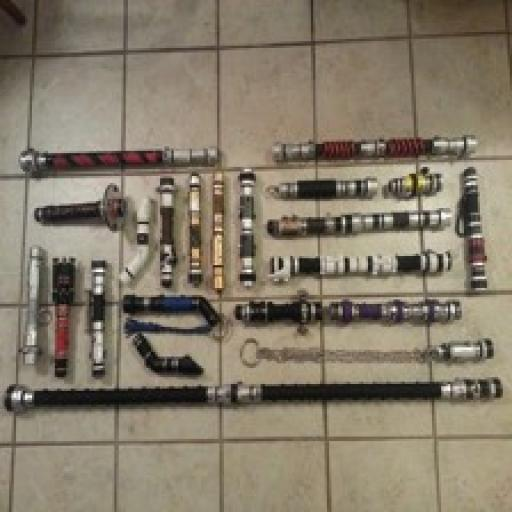lightsaber: (1, 380, 506, 416), (234, 299, 466, 325), (266, 251, 452, 278), (274, 137, 476, 161), (34, 185, 126, 231), (124, 295, 220, 339), (458, 169, 490, 288), (20, 151, 218, 170), (264, 215, 448, 235), (50, 251, 76, 379), (132, 334, 206, 377), (234, 165, 259, 292), (85, 257, 111, 376), (264, 175, 379, 200), (121, 199, 152, 285), (209, 170, 228, 297), (25, 243, 43, 368), (156, 178, 176, 288), (386, 168, 446, 200), (188, 171, 203, 285), (424, 342, 496, 361)
